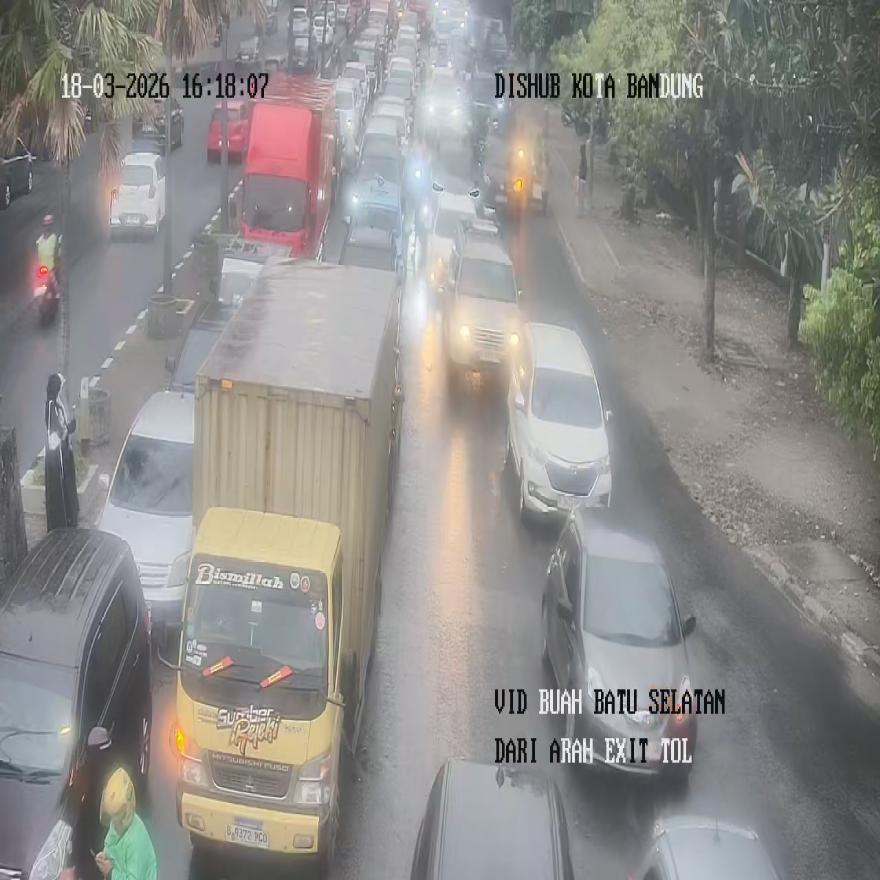Mobil: (0, 528, 153, 876), (540, 504, 696, 774), (97, 390, 196, 638), (506, 322, 613, 520), (409, 757, 573, 878), (442, 215, 524, 386), (109, 142, 165, 238)
Motor: (32, 259, 59, 323)
Truk berat: (234, 72, 338, 260)
Truk ringan: (156, 259, 404, 870)
